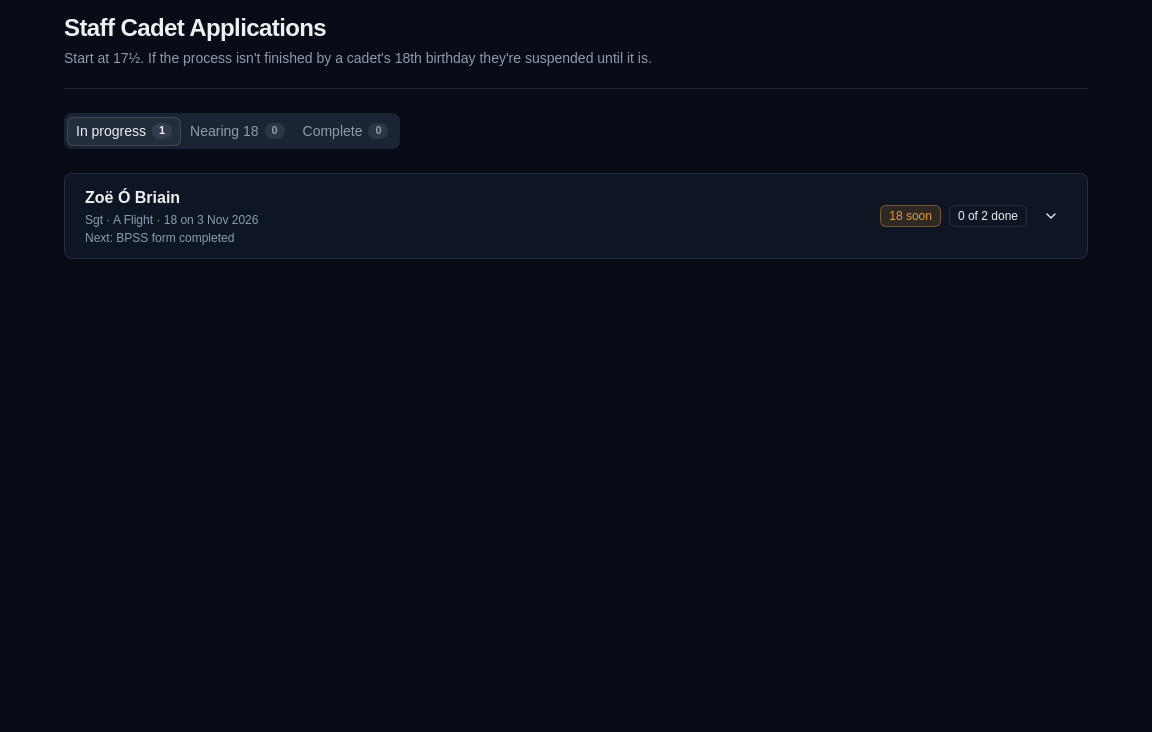
Test: Staff cadet applications › ticking a step saves it and updates the row's progress
Expected: the text "Next: BPSS form completed" is shown, [85,231,234,245]
Click the button named "Expand application for Zoë Ó Briain". click: (1051, 216)
box: [1035,200,1067,232]
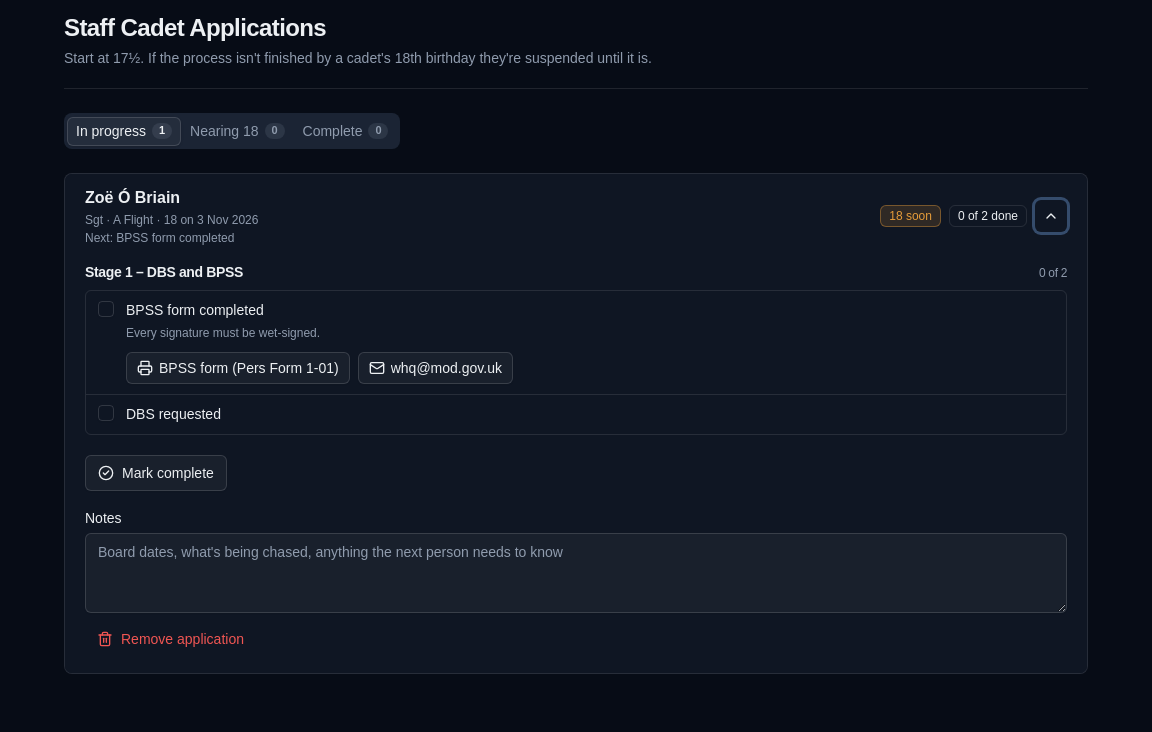
Click the 1st checkbox named "BPSS form completed". click: (106, 309)
box: [98,301,114,317]
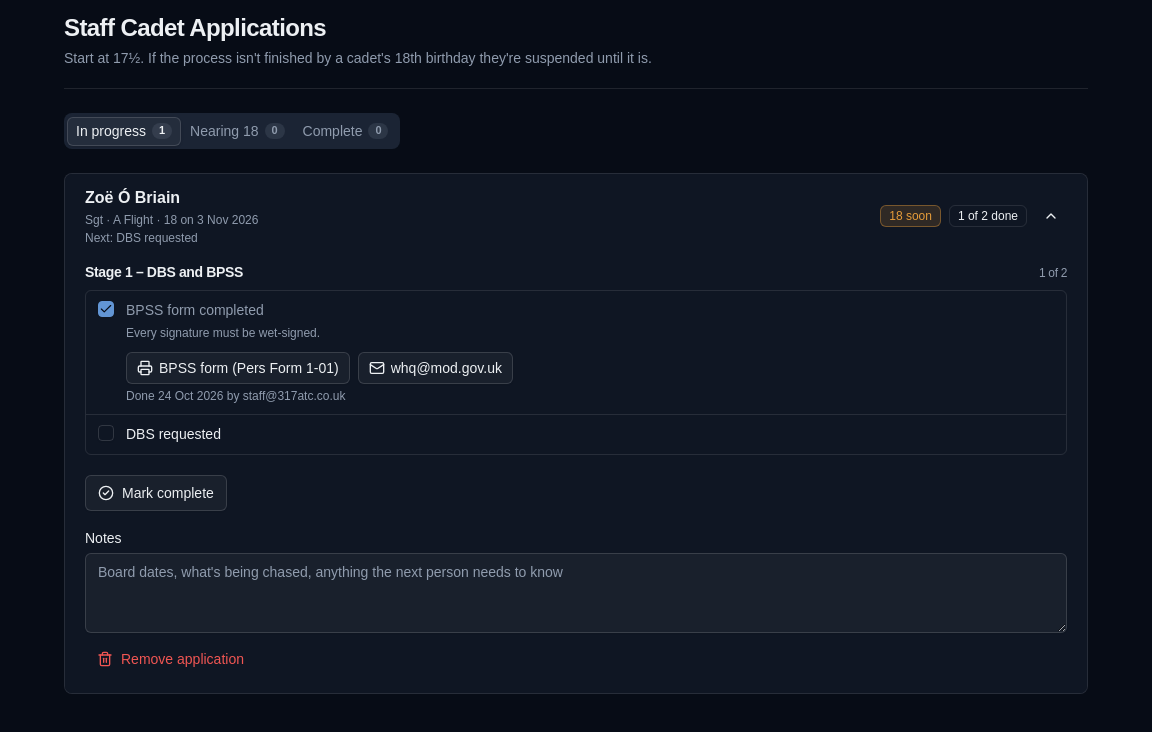
Expected: the text "1 of 2 done" is shown, [949,205,1027,227]
Expected: the text "Done 24 Oct 2026 by staff@317atc.co.uk" is shown, [126,389,346,403]
Expected: the text "Next: DBS requested" is shown, [85,231,198,245]
